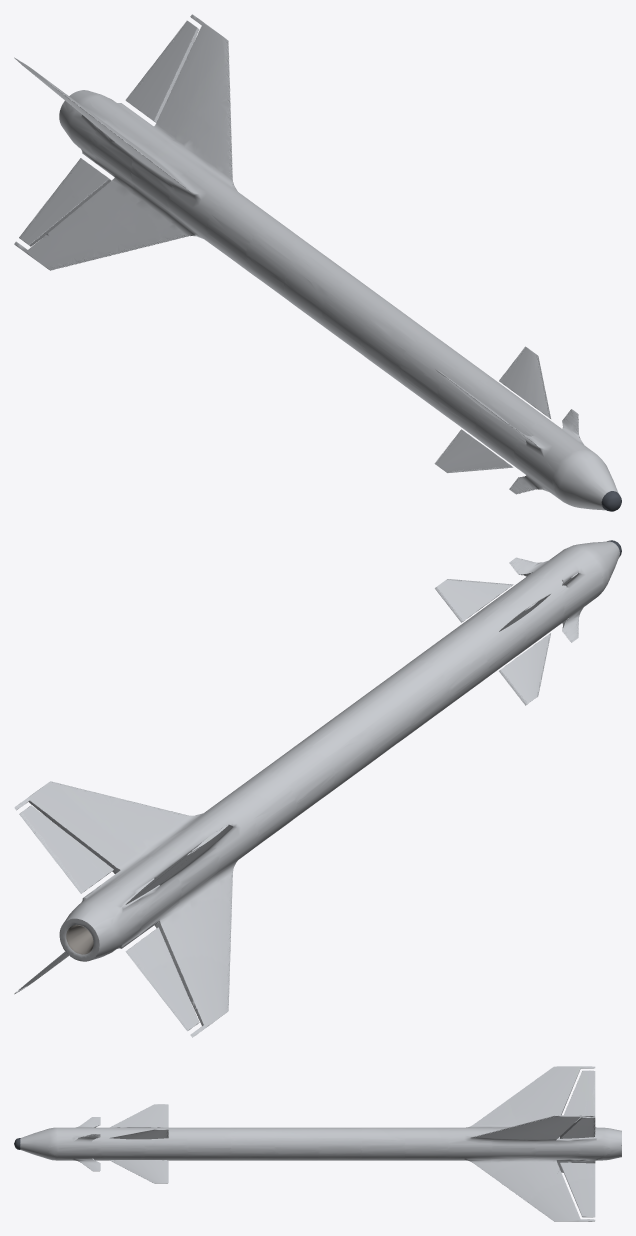
3 views of the same model, one above another, from view 1: azimuth 30°, elevation 25°; view 2: azimuth 150°, elevation 25°; view 3: azimuth 270°, elevation 25° (orthographic). The views are drawn at different scales.
Visible parts, largest first — view 1: airframe, fsim:aileron (×2), fsim:elevator+rudder:1@-20,20 (×2); view 2: airframe, fsim:aileron (×2), fsim:elevator+rudder:1@-20,20 (×2); view 3: airframe, fsim:aileron (×3), fsim:elevator+rudder:-1@-20,20 (×2), fsim:elevator+rudder:1@-20,20.
Part boxes in pixels (bbox=[...]): airframe: bbox=[14, 14, 621, 511]; fsim:aileron (×2): bbox=[19, 20, 199, 246]; fsim:elevator+rudder:1@-20,20 (×2): bbox=[434, 346, 551, 472]; airframe: bbox=[14, 540, 621, 1037]; fsim:aileron (×2): bbox=[19, 805, 199, 1031]; fsim:elevator+rudder:1@-20,20 (×2): bbox=[435, 579, 550, 705]; airframe: bbox=[14, 1066, 621, 1221]; fsim:aileron (×3): bbox=[560, 1070, 595, 1217]; fsim:elevator+rudder:-1@-20,20 (×2): bbox=[109, 1104, 168, 1183]; fsim:elevator+rudder:1@-20,20: bbox=[109, 1129, 168, 1139].
Bounding box in the file's own units: 0.5719 × 0.5722 × 2.95.
Materials: 4 (1 with a texture image).
